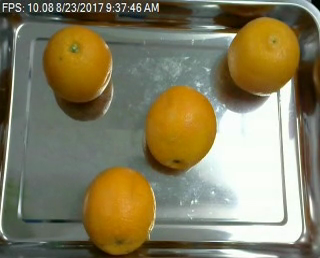Orange: (82, 166, 156, 254), (145, 86, 216, 169), (227, 16, 300, 94), (43, 24, 112, 103)
